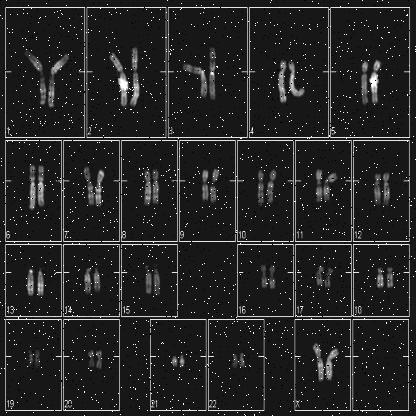1: (20, 47, 48, 110), (47, 48, 75, 110)
10: (254, 163, 266, 211), (266, 162, 278, 210)
11: (324, 164, 337, 206), (316, 164, 324, 206)
12: (371, 170, 382, 209), (382, 169, 392, 208)
13: (25, 266, 35, 298), (36, 267, 46, 299)
14: (82, 265, 94, 298), (93, 265, 105, 298)
15: (142, 262, 153, 299), (154, 263, 164, 300)
16: (268, 258, 280, 294), (258, 259, 268, 294)
17: (325, 262, 336, 293), (314, 262, 324, 293)
18: (374, 262, 385, 295), (386, 262, 396, 295)
19: (34, 344, 43, 372), (25, 346, 34, 373)
2: (108, 48, 129, 110), (128, 47, 144, 110)
20: (84, 343, 96, 375), (96, 343, 107, 375)
21: (170, 352, 178, 370), (178, 352, 186, 370)
22: (238, 348, 248, 374), (230, 348, 239, 374)
3: (180, 60, 208, 100), (207, 42, 218, 102)
4: (288, 56, 308, 105), (276, 57, 289, 107)
5: (370, 58, 382, 110), (360, 58, 370, 110)
6: (36, 160, 46, 212), (27, 160, 36, 212)
7: (82, 164, 95, 209), (95, 164, 108, 209)
8: (142, 166, 152, 210), (152, 168, 162, 210)
9: (200, 166, 210, 204), (209, 166, 218, 204)
X: (311, 340, 325, 385), (326, 340, 340, 385)
